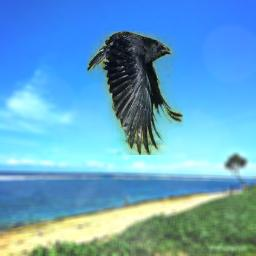Crow: (87, 31, 183, 155)
